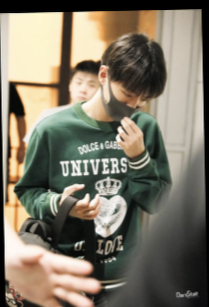with_mask: (105, 81, 151, 122)
without_mask: (70, 76, 101, 106)
